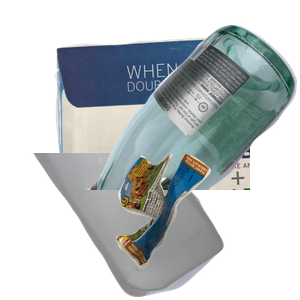glass: (86, 22, 300, 202)
paper: (52, 34, 292, 214)
plastic: (29, 153, 245, 300)
trash: (114, 151, 300, 300)
